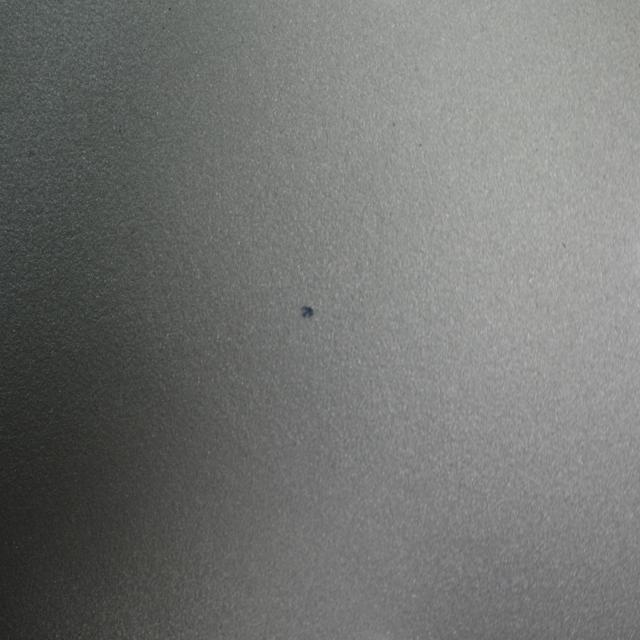dirt: (299, 301, 314, 321)
